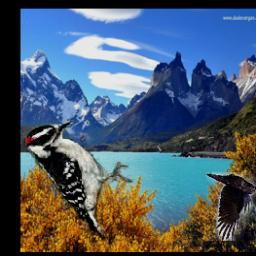Crow: (206, 172, 256, 241)
Woodpecker: (23, 121, 134, 236)
